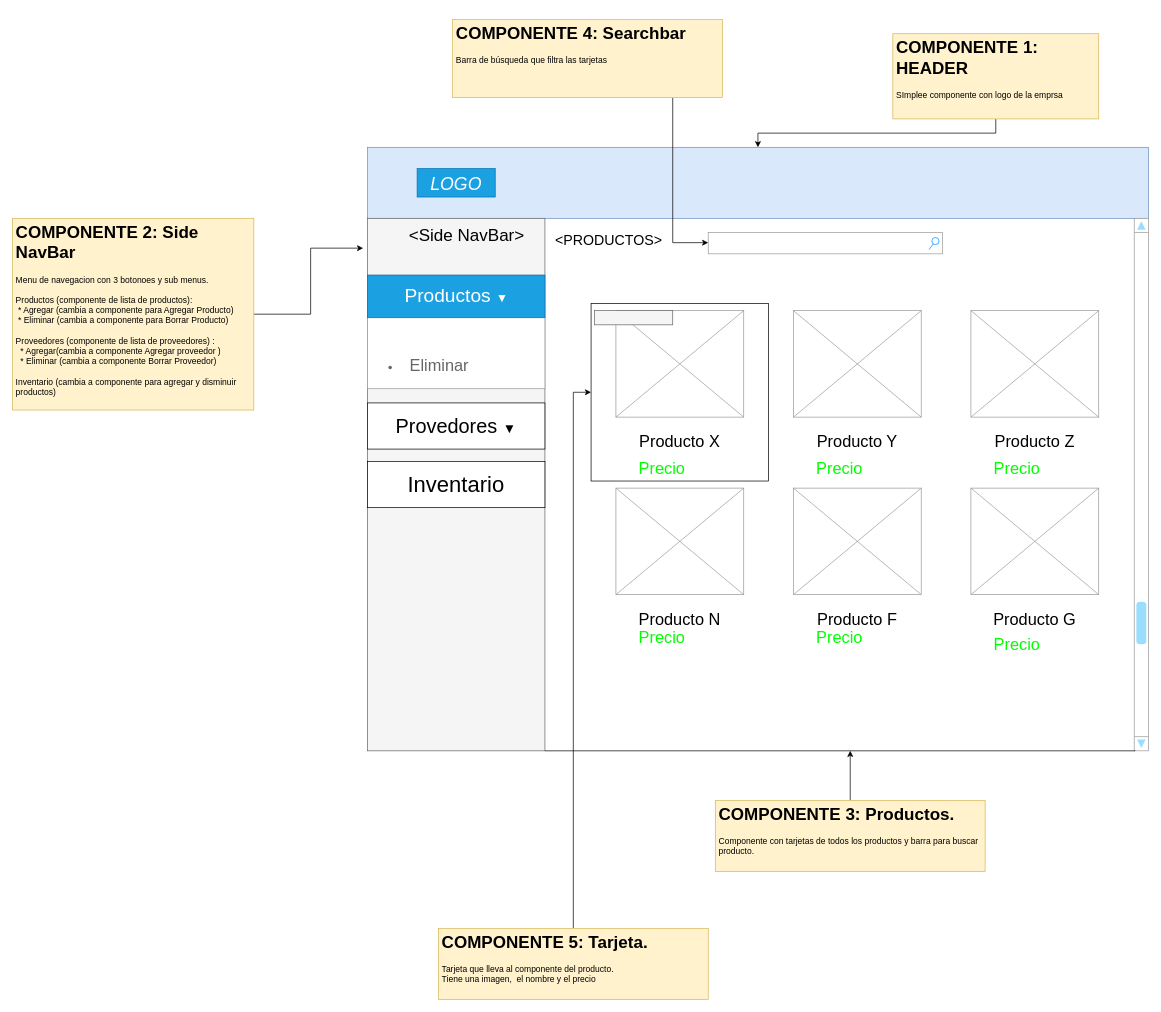
The diagram is 1161 pixels wide and 1012 high, and some of its shapes have lost their labels. Each missing label, with the box of its shape:
< TARJETA >: (594, 310, 673, 325)
<HEADER>: (367, 147, 1148, 218)
<Searchbar>: (708, 232, 943, 254)
Agregar: (367, 332, 545, 356)
